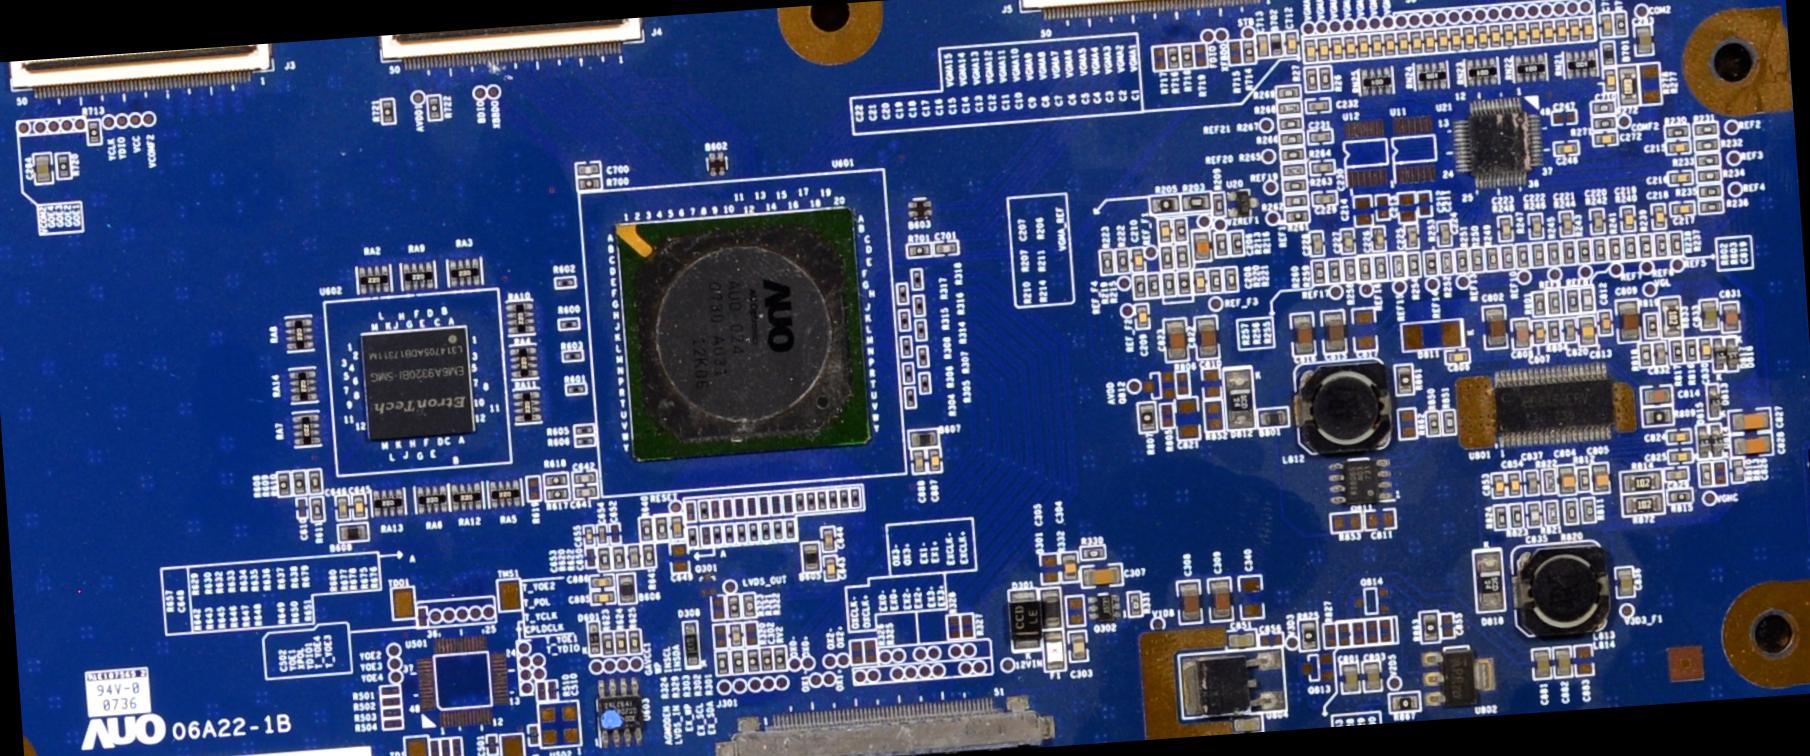Capacitor Jumper: (1176, 581, 1204, 627), (1482, 305, 1509, 350), (1732, 432, 1777, 457), (1291, 313, 1317, 355), (1321, 310, 1347, 353), (1080, 563, 1124, 587), (1207, 578, 1232, 621), (1729, 407, 1773, 431), (1067, 629, 1091, 666), (1531, 646, 1554, 682), (1302, 93, 1334, 118), (1339, 663, 1362, 696), (1592, 462, 1613, 497), (1362, 659, 1383, 695), (33, 152, 55, 186), (1720, 300, 1742, 332), (1615, 567, 1637, 599), (1190, 229, 1211, 262), (1640, 386, 1674, 406), (1700, 299, 1720, 334), (1553, 645, 1572, 680), (1636, 22, 1653, 60), (1511, 317, 1532, 349), (801, 541, 822, 572), (1578, 314, 1598, 346), (1369, 225, 1390, 254), (1308, 229, 1327, 259), (1339, 226, 1357, 256), (1558, 210, 1578, 238), (1062, 551, 1078, 584), (1558, 465, 1576, 496), (1307, 129, 1336, 148), (1310, 189, 1339, 208), (1226, 633, 1258, 649), (1490, 467, 1508, 497), (1668, 169, 1696, 187), (1528, 214, 1547, 241), (818, 525, 837, 553), (1665, 139, 1693, 156), (1669, 200, 1697, 217), (911, 449, 928, 477), (668, 512, 686, 540), (1665, 429, 1693, 446), (575, 160, 603, 177), (1309, 159, 1337, 175), (1591, 208, 1607, 235), (1444, 350, 1472, 366), (927, 448, 943, 476), (352, 493, 368, 521), (1506, 470, 1523, 497), (1524, 470, 1540, 497), (823, 555, 839, 583), (589, 575, 618, 590), (935, 240, 962, 256), (1652, 204, 1668, 231), (1621, 207, 1637, 233), (1404, 224, 1420, 250), (1438, 222, 1454, 248), (1668, 449, 1695, 465), (1526, 502, 1542, 529), (1285, 30, 1299, 60), (1342, 33, 1357, 61), (1303, 37, 1318, 65), (1158, 218, 1174, 244), (1498, 216, 1514, 241), (1130, 247, 1146, 272), (1598, 310, 1614, 336), (1603, 66, 1617, 95), (1662, 467, 1691, 481), (1593, 130, 1620, 145), (1563, 317, 1578, 344), (1654, 340, 1669, 367), (1730, 457, 1745, 484), (1580, 16, 1596, 40), (1330, 35, 1344, 62), (1541, 18, 1556, 44), (1531, 319, 1546, 344), (573, 471, 598, 486), (1527, 21, 1543, 44), (1475, 25, 1491, 48), (1256, 32, 1271, 57), (1568, 17, 1583, 42), (1382, 31, 1397, 55), (1698, 337, 1713, 361), (335, 495, 350, 519), (1461, 25, 1478, 47), (1448, 27, 1464, 48), (1600, 13, 1614, 38), (1556, 18, 1570, 44), (1553, 142, 1580, 155), (1514, 22, 1529, 45), (1503, 23, 1518, 46), (1436, 29, 1451, 52), (1357, 33, 1370, 60), (1318, 37, 1331, 63), (591, 591, 618, 604), (1423, 29, 1437, 53), (728, 623, 742, 648), (1409, 30, 1424, 52), (1137, 304, 1150, 329), (1370, 33, 1384, 57), (1397, 31, 1411, 54), (1194, 269, 1206, 293), (1490, 25, 1503, 48), (574, 486, 597, 499), (583, 524, 596, 546), (597, 524, 608, 546)
Connector: (3, 43, 282, 102), (373, 17, 653, 75)
IC: (576, 172, 903, 491), (326, 290, 511, 476), (1486, 360, 1623, 454), (1451, 92, 1546, 194), (589, 675, 649, 754)
Resistor Jumper: (1620, 469, 1665, 494), (1622, 493, 1666, 516), (1660, 295, 1683, 338), (1146, 194, 1183, 215), (1137, 402, 1158, 436), (1641, 406, 1675, 427), (1296, 617, 1317, 651), (1389, 693, 1422, 713), (1396, 364, 1416, 396), (1419, 611, 1439, 643), (1125, 590, 1144, 620), (1282, 207, 1311, 225), (1098, 248, 1116, 277), (1661, 123, 1693, 140), (1182, 192, 1209, 211), (1693, 151, 1723, 169), (1653, 231, 1670, 261), (1637, 232, 1655, 260), (1080, 544, 1108, 562), (1696, 169, 1725, 186), (906, 241, 935, 259), (892, 280, 911, 307), (1667, 231, 1685, 257), (309, 495, 326, 525), (1180, 43, 1197, 70), (1591, 114, 1618, 132), (276, 470, 293, 497), (1691, 121, 1720, 137), (1698, 199, 1727, 215), (1159, 244, 1175, 272), (1406, 250, 1422, 279), (543, 471, 571, 487), (1613, 10, 1630, 37), (1607, 235, 1624, 262), (1561, 239, 1578, 265), (1499, 245, 1517, 271), (1176, 269, 1194, 295), (1222, 267, 1240, 293), (641, 544, 658, 570), (1276, 132, 1306, 147), (1282, 194, 1310, 210), (307, 469, 326, 493), (1543, 500, 1560, 527), (715, 650, 731, 678), (1174, 244, 1191, 269), (1622, 235, 1639, 261), (1471, 247, 1488, 272), (1668, 339, 1685, 365), (1638, 343, 1655, 368), (1698, 462, 1715, 487), (1588, 99, 1617, 114), (1277, 147, 1306, 162), (1442, 409, 1457, 437), (1666, 488, 1695, 503), (1698, 184, 1725, 200), (1173, 216, 1189, 242), (1214, 231, 1231, 257), (1542, 467, 1558, 494), (1577, 466, 1593, 493), (731, 648, 747, 674), (1546, 241, 1563, 265), (1207, 269, 1225, 293), (1494, 504, 1511, 529), (57, 152, 72, 180), (1273, 85, 1303, 99), (1276, 100, 1303, 115), (576, 175, 604, 190), (1279, 162, 1307, 177), (1303, 66, 1319, 91), (1516, 244, 1532, 269), (1564, 289, 1580, 314), (1532, 292, 1548, 317), (638, 516, 655, 541), (1117, 247, 1131, 276), (1160, 272, 1177, 295), (1281, 178, 1308, 193), (1342, 257, 1357, 284), (1424, 410, 1439, 436), (772, 645, 787, 672), (427, 97, 443, 121), (1644, 314, 1660, 338), (381, 98, 396, 123), (1693, 137, 1719, 152), (910, 267, 925, 292), (1327, 259, 1342, 284), (897, 307, 912, 332), (1547, 319, 1562, 344), (292, 470, 307, 495), (545, 487, 570, 502), (655, 515, 670, 540), (1510, 503, 1525, 529), (1166, 45, 1180, 72), (1424, 250, 1438, 277), (1684, 337, 1698, 364), (1212, 192, 1227, 216), (1578, 238, 1593, 262), (1593, 238, 1608, 262), (1532, 242, 1547, 267), (1454, 249, 1469, 274), (1134, 275, 1149, 299), (912, 294, 927, 319), (914, 319, 929, 343), (1279, 117, 1304, 130), (1231, 230, 1244, 255), (1375, 254, 1389, 279), (1486, 247, 1499, 272), (1312, 260, 1326, 285), (1357, 257, 1373, 280), (1548, 291, 1563, 314), (917, 344, 932, 367), (598, 547, 613, 570), (628, 630, 643, 653), (746, 649, 761, 672), (1319, 66, 1333, 90), (613, 545, 627, 569), (900, 334, 913, 359), (727, 593, 740, 619), (601, 633, 614, 658), (1147, 274, 1160, 298), (745, 593, 757, 617), (614, 633, 628, 654), (903, 361, 915, 384), (920, 369, 932, 395), (905, 387, 918, 410), (555, 276, 576, 290), (566, 382, 586, 395), (762, 648, 772, 672), (575, 424, 594, 436), (559, 317, 579, 329), (576, 436, 596, 448), (563, 351, 584, 361)
Transistor: (1177, 646, 1291, 720), (1418, 641, 1496, 709), (1326, 455, 1403, 508), (1086, 591, 1123, 622)
